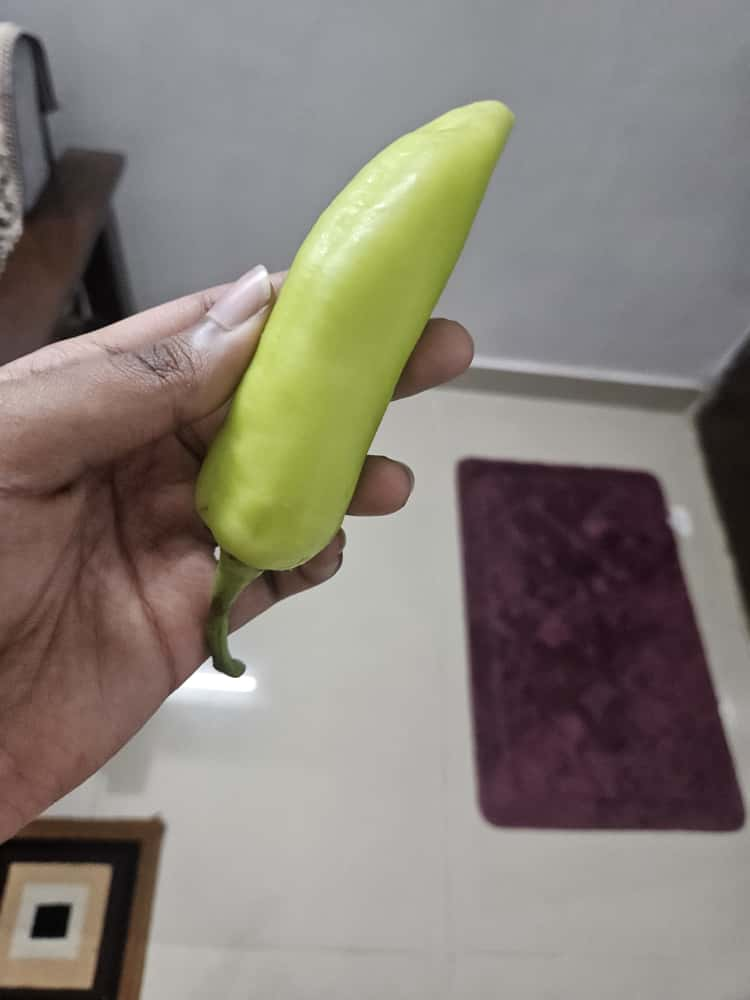wet: (182, 91, 520, 705)
